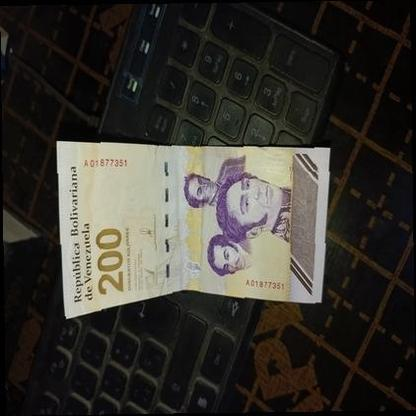two_hundred-front-vef: (56, 140, 330, 319)
